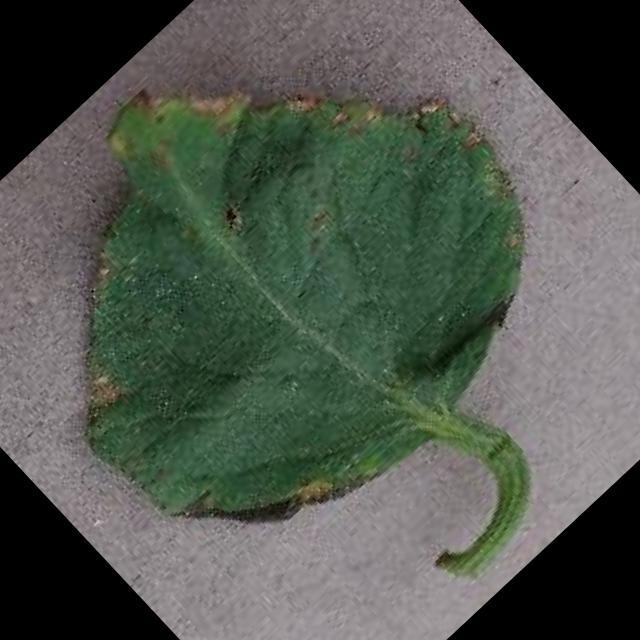Tomato bacterial spot leaf: (0, 0, 615, 611)
